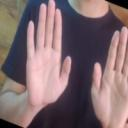hand: (25, 0, 72, 106), (90, 25, 127, 127)
